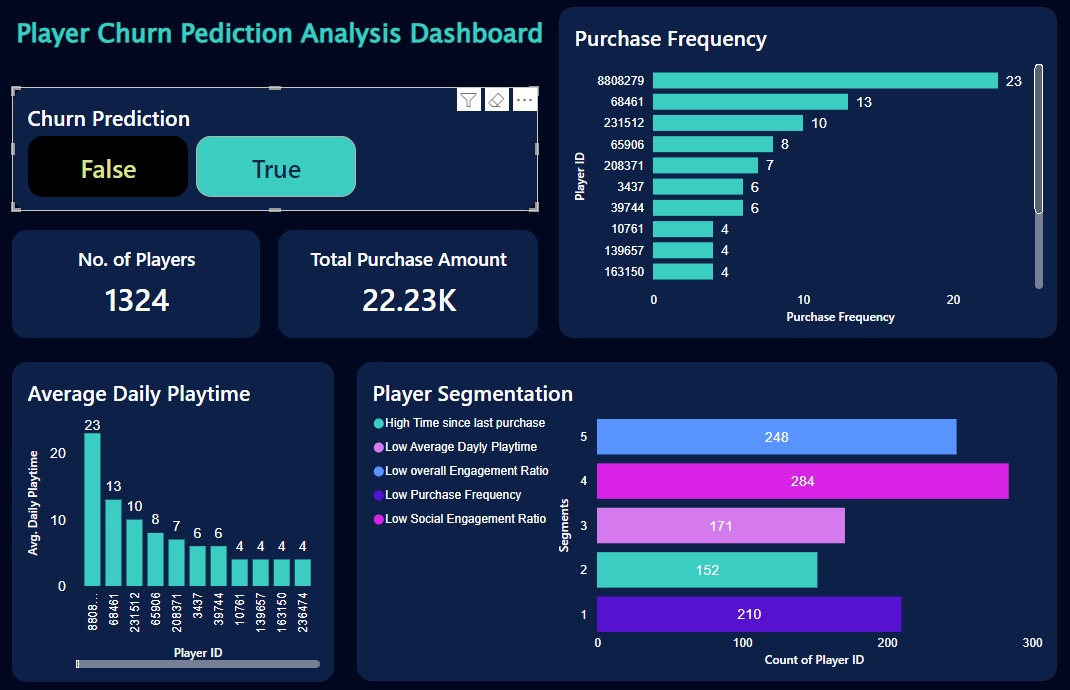

The page's visual inventory and layout, read from the dashboard file:
{"tool":"powerbi","page":{"name":"Page 1","canvas":[1280,720],"ordinal":0},"visuals":[{"type":"card","title":"Total Purchase Amount","fields":{"Values":["Sum(player churn final dataset csv.Purchase Amount)"]},"box":[375,252,260,108],"z":0},{"type":"card","title":"No. of Players","fields":{"Values":["CountNonNull(player churn final dataset csv.Player ID)"]},"box":[109,252,248,108],"z":1000},{"type":"advancedSlicerVisual","fields":{"Values":["player churn final dataset csv.Churn Prediction"]},"box":[109,109,526,124],"z":2000},{"type":"columnChart","title":"Average Daily Playtime","fields":{"Category":["player churn final dataset csv.Player ID"],"Y":["CountNonNull(player churn final dataset csv.Average Daily Playtime)"]},"box":[109,384,322,320],"z":3000},{"type":"barChart","title":"Player Segmentation","fields":{"Y":["CountNonNull(player churn final dataset csv.Player ID)"],"Category":["Segments.Segments"],"Series":["Segments.Criteria"]},"box":[454,384,700,319],"z":4000},{"type":"barChart","title":"Purchase Frequency","fields":{"Category":["player churn final dataset csv.Player ID"],"Y":["CountNonNull(player churn final dataset csv.Purchase Frequency)"]},"box":[656,29,498,331],"z":5000},{"type":"textbox","title":"Player Churn Pediction Analysis Dashboard","box":[109,36,573,71],"z":6000}]}

Visuals, with their boxes on the page's 1280x720 design canvas (x1, y1, x2, y2). These are canvas units, not pixel positions in the 1070x690 screenshot, which may show the page scaled, cropped or inside an application window:
"Total Purchase Amount" card: box(375, 252, 635, 360)
"No. of Players" card: box(109, 252, 357, 360)
advancedSlicerVisual - player churn final dataset csv.Churn Prediction: box(109, 109, 635, 233)
"Average Daily Playtime" columnChart: box(109, 384, 431, 704)
"Player Segmentation" barChart: box(454, 384, 1154, 703)
"Purchase Frequency" barChart: box(656, 29, 1154, 360)
"Player Churn Pediction Analysis Dashboard" textbox: box(109, 36, 682, 107)
